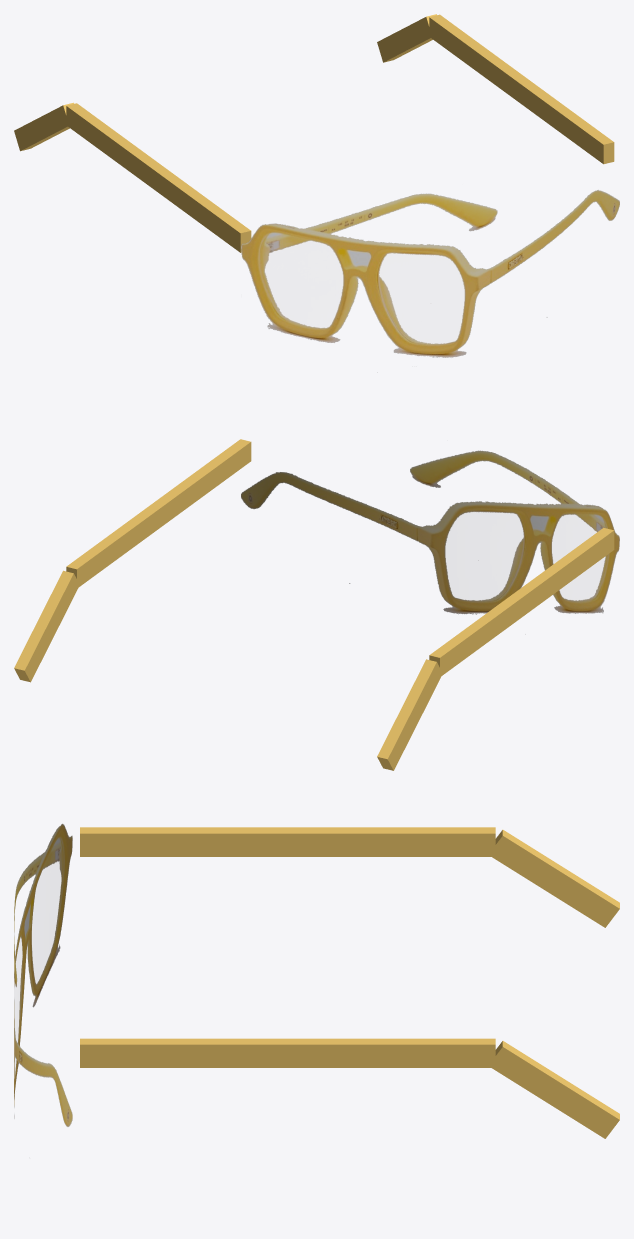
The picture shows the model from 3 angles, top to bottom: view 1: azimuth 30°, elevation 25°; view 2: azimuth 150°, elevation 25°; view 3: azimuth 270°, elevation 25°; orthographic projection. The views are drawn at different scales.
Parts seen in each view (by area): view 1: anteojo; view 2: anteojo; view 3: anteojo.
Part boxes in pixels (x1,y1,x2,y2): anteojo: (14, 14, 619, 372); anteojo: (14, 439, 619, 770); anteojo: (14, 823, 619, 1138).
Size of the model in its own units: 0.142 by 0.0615 by 0.165.
Materials: 2 (1 with a texture image).
